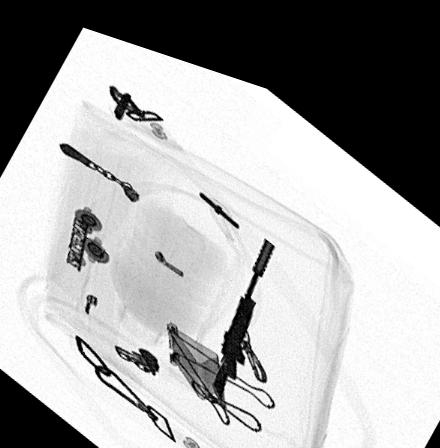Gun: (209, 216, 275, 390)
